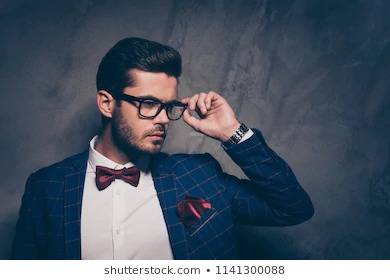F_M_suit jacket: (7, 125, 316, 259)
